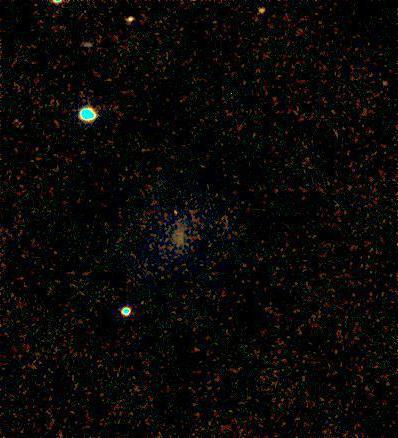star: (164, 199, 194, 229)
